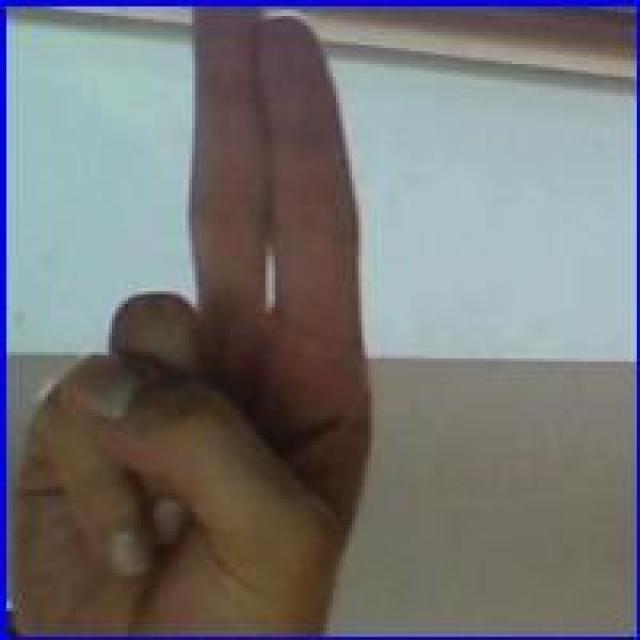U: (5, 3, 376, 640)
